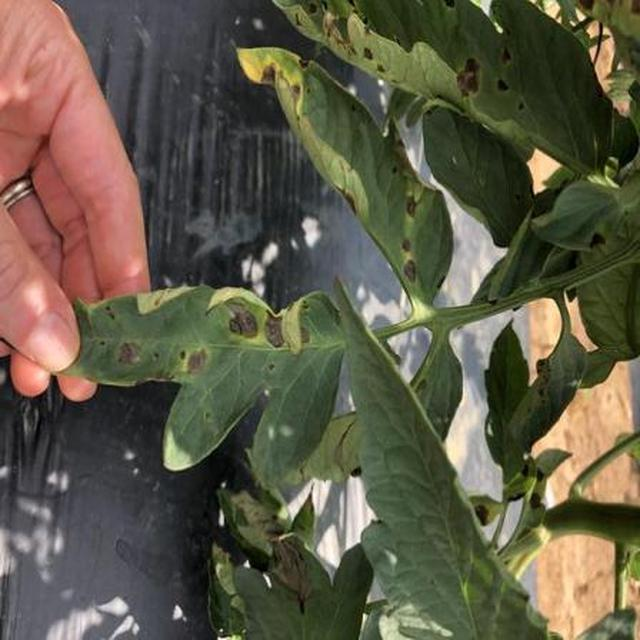Early Blight Leaf: (295, 243, 494, 545)
